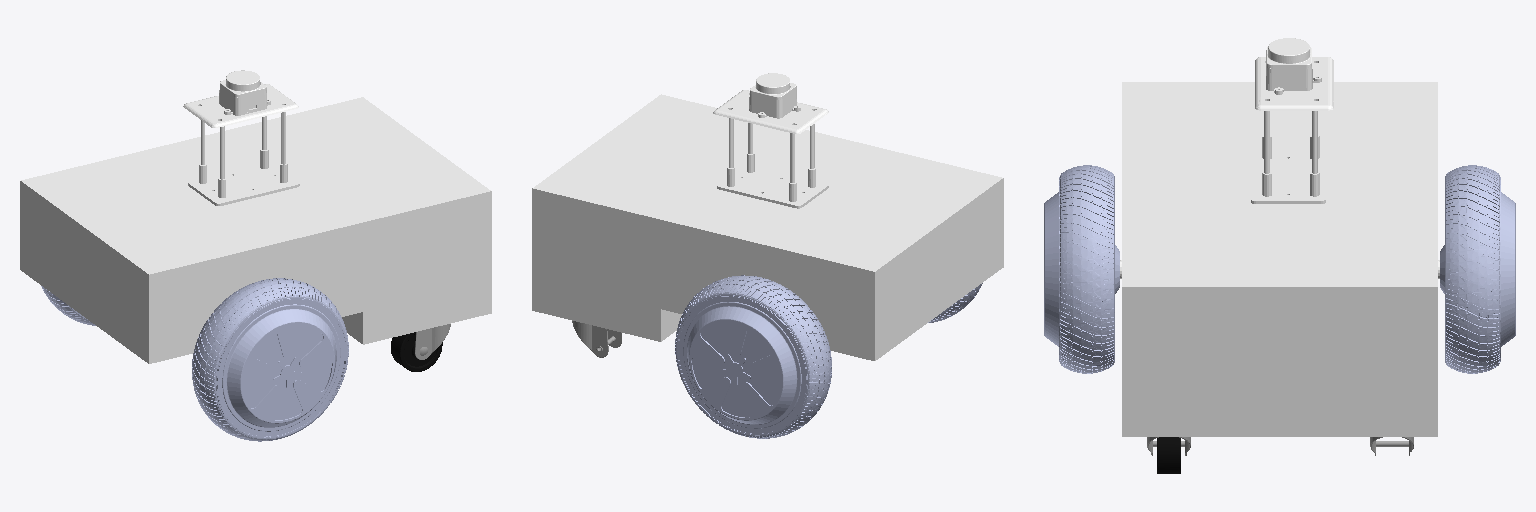
robot.urdf — waiter_robot_1:
<?xml version="1.0" encoding="utf-8"?>
<!-- This URDF was automatically created by SolidWorks to URDF Exporter! Originally created by [author] ([email redacted]) 
     Commit Version: 1.6.0-4-g7f85cfe  Build Version: 1.6.7995.38578
     For more information, please see http://wiki.ros.org/sw_urdf_exporter -->



<robot  name="waiter_robot_1" >


  <link name="base_footprint"/>

  <joint name="base_joint" type="fixed">
    <parent link="base_footprint"/>
    <child link="base_link"/>
    <origin xyz="0.0 0.0 0.01" rpy="0 0 0"/>
  </joint>


  <link name="base_link">
    <inertial>
      <origin
        xyz="0.014375 0.00017948 0.041436"
        rpy="0 0 0" />
      <mass
        value="5.3045" />
      <inertia
        ixx="0.02574"
        ixy="-4.8944E-08"
        ixz="-1.5815E-08"
        iyy="0.051134"
        iyz="-5.7053E-08"
        izz="0.070862" />
    </inertial>
    <visual>
      <origin
        xyz="0 0 0"
        rpy="0 0 0" />
      <geometry>
        <mesh
          filename="package://waiter_robot_1/meshes/base_link.STL" />
      </geometry>
      <material
        name="">
        <color
          rgba="1 1 1 1" />
      </material>
    </visual>
    <collision>
      <origin
        xyz="0 0 0"
        rpy="0 0 0" />
      <geometry>
        <mesh
          filename="package://waiter_robot_1/meshes/base_link.STL" />
      </geometry>
    </collision>
  </link>

  <joint name="left_wheel" type="continuous">
    <origin
      xyz="-0.075 0.1942 -0.0125"
      rpy="-1.5708 0 0" />
    <parent
      link="base_link" />
    <child
      link="wheel_left_link" />
    <axis
      xyz="0 0 1" />
  </joint>

  <link name="wheel_left_link">
    <inertial>
      <origin
        xyz="1.8976E-08 1.8319E-09 -0.033574"
        rpy="0 0 0" />
      <mass
        value="2.65022" />
      <inertia
        ixx="0.0015508"
        ixy="4.122E-10"
        ixz="-1.5313E-10"
        iyy="0.0015508"
        iyz="-2.3998E-11"
        izz="0.0029007" />
    </inertial>
    <visual>
      <origin
        xyz="0 0 0"
        rpy="0 0 0" />
      <geometry>
        <mesh
          filename="package://waiter_robot_1/meshes/wheel_L_link.STL" />
      </geometry>
      <material
        name="">
        <color
          rgba="0.79216 0.81961 0.93333 1" />
      </material>
    </visual>
    <collision>
      <origin
        xyz="0 0 0"
        rpy="0 0 0" />
      <geometry>
        <mesh
          filename="package://waiter_robot_1/meshes/wheel_L_link.STL" />
      </geometry>
    </collision>
  </link>

  <joint name="right_wheel" type="continuous">
    <origin
      xyz="-0.075 -0.1942 -0.0125"
      rpy="1.5708 0 3.1416" />
    <parent
      link="base_link" />
    <child
      link="wheel_right_link" />
    <axis
      xyz="0 0 1" />
  </joint>

  <link name="wheel_right_link">
    <inertial>
      <origin
        xyz="1.8976E-08 -1.8319E-09 0.033574"
        rpy="0 0 0" />
      <mass
        value="2.65022" />
      <inertia
        ixx="0.0015508"
        ixy="-4.122E-10"
        ixz="1.5313E-10"
        iyy="0.0015508"
        iyz="-2.3998E-11"
        izz="0.0029007" />
    </inertial>
    <visual>
      <origin
        xyz="0 0 0"
        rpy="0 0 0" />
      <geometry>
        <mesh
          filename="package://waiter_robot_1/meshes/wheel_R_link.STL" />
      </geometry>
      <material
        name="">
        <color
          rgba="0.79216 0.81961 0.93333 1" />
      </material>
    </visual>
    <collision>
      <origin
        xyz="0 0 0"
        rpy="0 0 0" />
      <geometry>
        <mesh
          filename="package://waiter_robot_1/meshes/wheel_R_link.STL" />
      </geometry>
    </collision>
  </link>

  <joint name="castor_base_L_joint" type="continuous">
    <origin
      xyz="0.15472 0.0925 -0.0461"
      rpy="3.1416 0 0" />
    <parent
      link="base_link" />
    <child
      link="castor_base_L_link" />
    <axis
      xyz="0 0 1" />
  </joint>

  <link name="castor_base_L_link">
    <inertial>
      <origin
        xyz="-0.0098504 0.00015509 0.010437"
        rpy="0 0 0" />
      <mass
        value="0.5" />
      <inertia
        ixx="0.0001"
        ixy="0.0"
        ixz="0.0"
        iyy="0.0001"
        iyz="0.0"
        izz="0.0001" />
    </inertial>
    <visual>
      <origin
        xyz="0 0 0"
        rpy="0 0 0" />
      <geometry>
        <mesh
          filename="package://waiter_robot_1/meshes/castor_base_L_link.STL" />
      </geometry>
      <material
        name="">
        <color
          rgba="0.7 0.7 0.7 1" />
      </material>
    </visual>
    <collision>
      <origin
        xyz="0 0 0"
        rpy="0 0 0" />
      <geometry>
        <mesh
          filename="package://waiter_robot_1/meshes/castor_base_L_link.STL" />
      </geometry>
    </collision>
  </link>

  <joint name="castor_wheel_L_joint" type="continuous">
    <origin
      xyz="-0.019934 0 0.027"
      rpy="-1.5708 0 -3.1416" />
    <parent
      link="castor_base_L_link" />
    <child
      link="castor_wheel_L_link" />
    <axis
      xyz="0 0 1" />
  </joint>

  <link name="castor_wheel_L_link">
    <inertial>
      <origin
        xyz="1.1102E-16 6.9389E-17 -2.7409E-16"
        rpy="0 0 0" />
      <mass value="0.005" />
        <inertia 
          ixx="0.001"
          ixy="0.0" 
          ixz="0.0"
          iyy="0.001" 
          iyz="0.0"
          izz="0.001" />
    </inertial>
    <visual>
      <origin
        xyz="0 0 0"
        rpy="0 0 0" />
      <geometry>
        <mesh
          filename="package://waiter_robot_1/meshes/castor_wheel_L_link.STL" />
      </geometry>
      <material
        name="">
        <color
          rgba="0.1098 0.1098 0.1098 1" />
      </material>
    </visual>
    <collision>
      <origin
        xyz="0 0 0"
        rpy="0 0 0" />
      <geometry>
        <mesh
          filename="package://waiter_robot_1/meshes/castor_wheel_L_link.STL" />
      </geometry>
    </collision>
  </link>

  <joint name="castor_base_R_joint" type="continuous">
    <origin
      xyz="0.15472 -0.0915 -0.0461"
      rpy="3.1416 0 0" />
    <parent
      link="base_link" />
    <child
      link="castor_base_R_link" />
    <axis
      xyz="0 0 1" />
  </joint>

  <link name="castor_base_R_link">
    <inertial>
      <origin
        xyz="0.014375 0.00017948 0.041436"
        rpy="0 0 0" />
      <mass value="0.005" />
        <inertia 
          ixx="0.001"
          ixy="0.0" 
          ixz="0.0"
          iyy="0.001" 
          iyz="0.0"
          izz="0.001" />
    </inertial>
    <visual>
      <origin
        xyz="0 0 0"
        rpy="0 0 0" />
      <geometry>
        <mesh
          filename="package://waiter_robot_1/meshes/castor_base_R_link.STL" />
      </geometry>
      <material
        name="">
        <color
          rgba="0.7 0.7 0.7 1" />
      </material>
    </visual>
    <collision>
      <origin
        xyz="0 0 0"
        rpy="0 0 0" />
      <geometry>
        <mesh
          filename="package://waiter_robot_1/meshes/castor_base_R_link.STL" />
      </geometry>
    </collision>
  </link>


  <joint name="castor_wheel_R_joint" type="continuous">
    <origin
      xyz="-0.019934 0 0.027"
      rpy="-1.5708 0 -3.1416" />
    <parent
      link="castor_base_R_link" />
    <child
      link="castor_wheel_R_link" />
    <axis
      xyz="0 0 1" />
  </joint>

  <link name="castor_wheel_R_link">
    <inertial>
      <origin
        xyz="1.1102E-16 7.4593E-17 -3.0531E-16"
        rpy="0 0 0" />
      <mass
        value="0.2" />
      <inertia
        ixx="0.0001"
        ixy="0.0"
        ixz="0.0"
        iyy="0.0001"
        iyz="0.0"
        izz="0.0001" />
    </inertial>
    <visual>
      <origin
        xyz="0 0 0"
        rpy="0 0 0" />
      <geometry>
        <mesh
          filename="package://waiter_robot_1/meshes/castor_wheel_R_link.STL" />
      </geometry>
      <material
        name="">
        <color
          rgba="0.1098 0.1098 0.1098 1" />
      </material>
    </visual>
    <collision>
      <origin
        xyz="0 0 0"
        rpy="0 0 0" />
      <geometry>
        <mesh
          filename="package://waiter_robot_1/meshes/castor_wheel_R_link.STL" />
      </geometry>
    </collision>
  </link>


  <joint name="imu_joint" type="fixed">
    <parent link="base_link"/>
    <child link="imu_link"/>

   
      <!--  -0.075 0.1942 -0.0125
            -0.075 -0.1942 -0.0125 -->

    <origin xyz="-0.075 0 -0.0125" rpy="0 0 0"/>
  </joint>

  <link name="imu_link"/>
  

  <joint name="scan_joint" type="fixed">
    <parent link="base_link"/>
    <child link="base_scan"/>
    <origin xyz="-0.01 0.006 0.225" rpy="0 0 0"/>
  </joint>

  <link name="base_scan"/>
    











</robot>

--- Render facts (derived) ---
The picture shows the robot from 3 angles, left to right: view 1: azimuth 30°, elevation 25°; view 2: azimuth 150°, elevation 25°; view 3: azimuth 270°, elevation 25°; orthographic projection.
Robot: waiter_robot_1 — 10 links, 9 joints (6 continuous, 3 fixed); root link base_footprint; default pose: all joints at 0.
Visible links, largest first — view 1: base_link, wheel_right_link, castor_wheel_R_link, castor_base_R_link; view 2: base_link, wheel_left_link, castor_base_L_link; view 3: base_link, wheel_left_link, wheel_right_link, castor_wheel_R_link.
Boxes of the visible links, left/top/right/bottom form: base_link: left=20, top=70, right=491, bottom=363; wheel_right_link: left=192, top=278, right=348, bottom=441; castor_wheel_R_link: left=391, top=332, right=442, bottom=371; castor_base_R_link: left=415, top=324, right=450, bottom=359; base_link: left=532, top=73, right=1003, bottom=360; wheel_left_link: left=675, top=275, right=831, bottom=438; castor_base_L_link: left=572, top=321, right=621, bottom=357; base_link: left=1120, top=38, right=1439, bottom=436; wheel_left_link: left=1440, top=165, right=1515, bottom=373; wheel_right_link: left=1044, top=165, right=1119, bottom=373; castor_wheel_R_link: left=1157, top=437, right=1180, bottom=473.
Size in the robot's own frame: 0.4 by 0.3884 by 0.3188 metres.
Meshes: 7 distinct files referenced, 6 mesh visuals loaded (6 binary STL); not drawn: 1 (reference not matched to a file when rendering).
